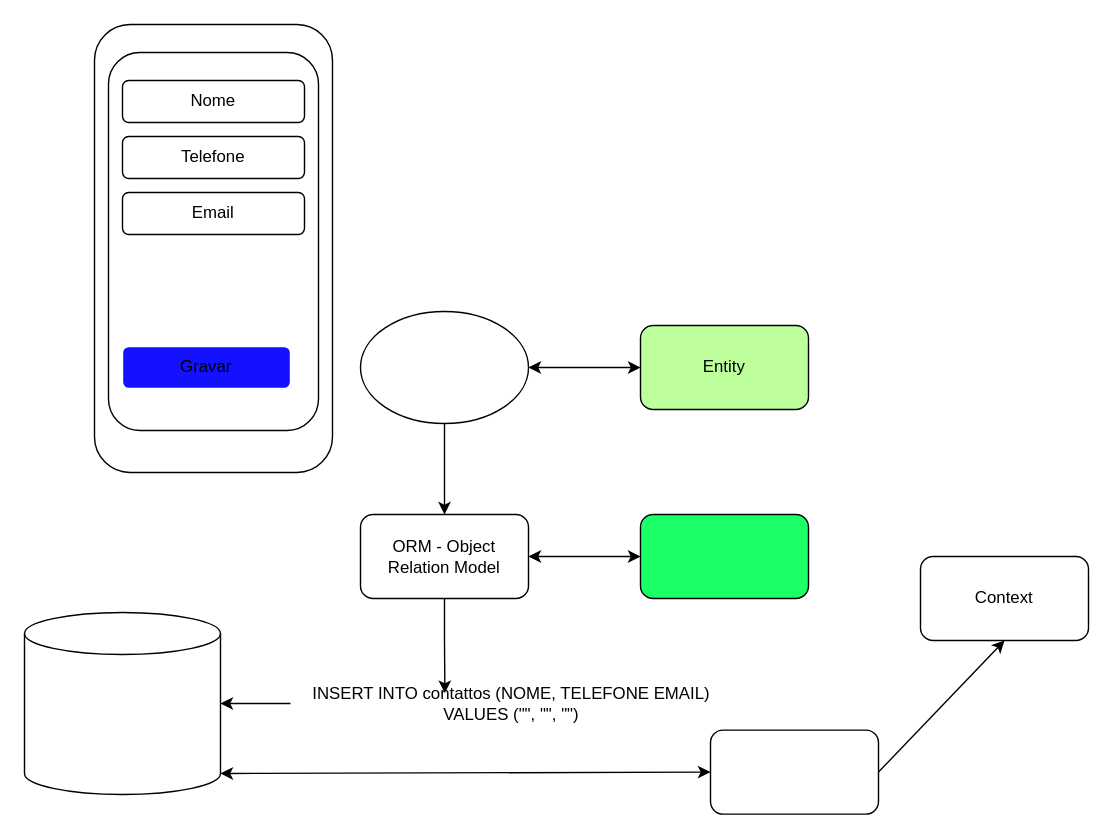
This 1113x839 diagram has some shape labels left out. The centre of each missing label's shape, as x and y in pixels:
Contato: id : 0 nome: "Joao" email:"@tste" tel: "1111-111": (443,367)
DAO ( Data Access Object ): (723,555)
Database (SQLite) Biblioteca Room para acessar: (121,702)
RoomDatabase: (793,771)
